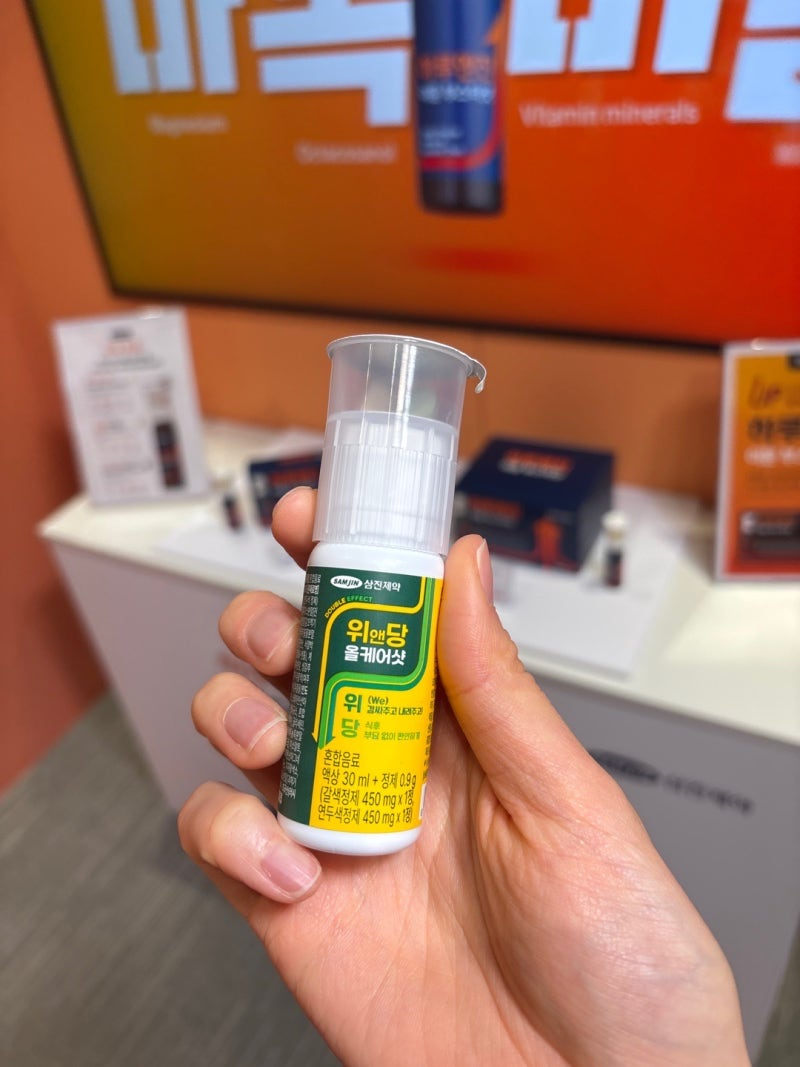supplement_label: (266, 544, 465, 847)
